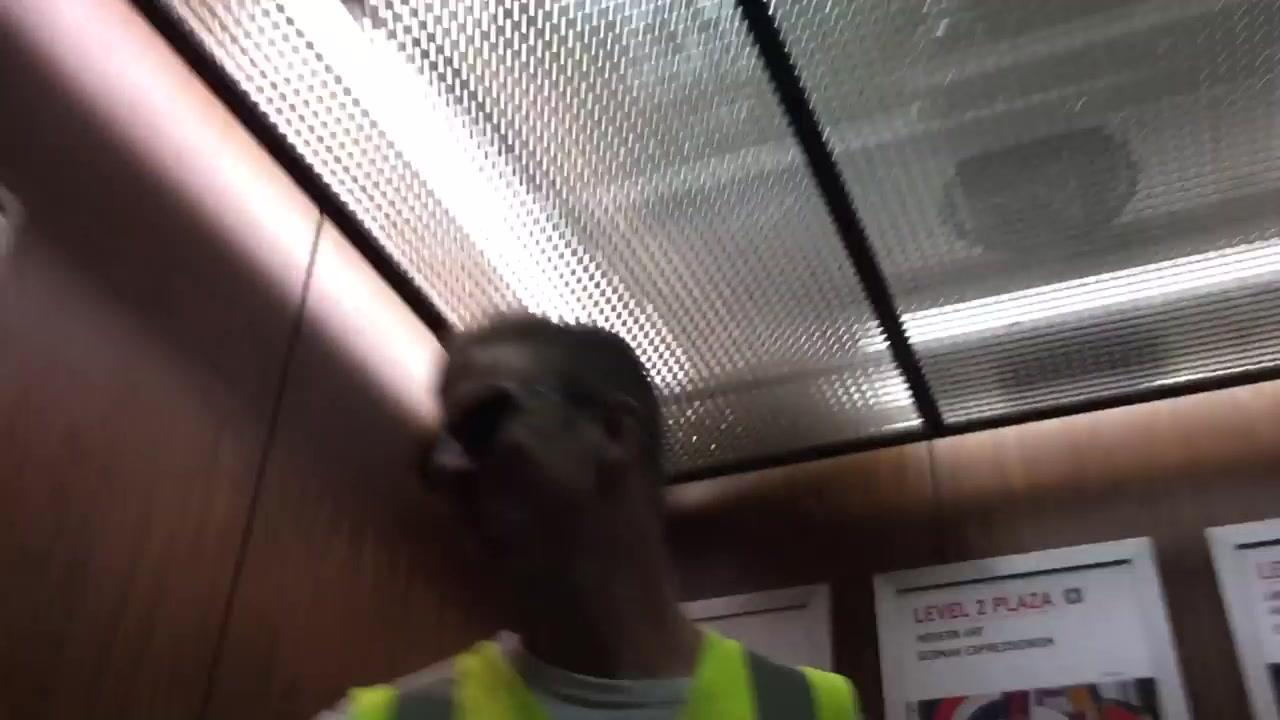vest: (340, 627, 858, 719)
